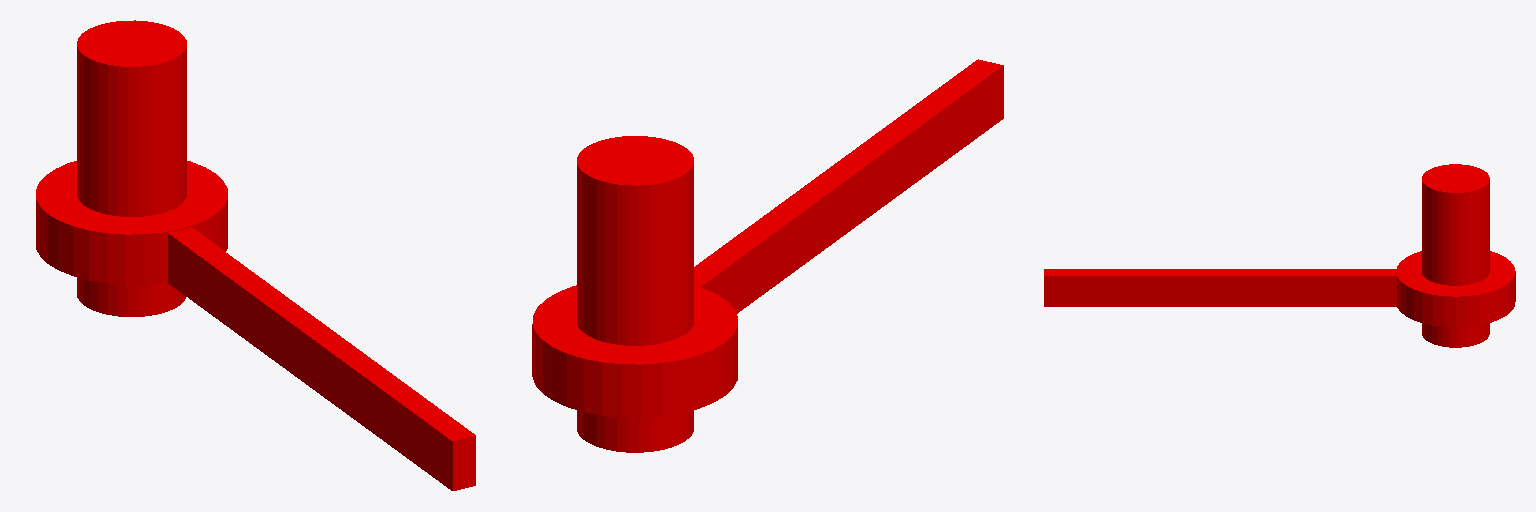
URDF robot description (barrier):
<?xml version="1.0" ?>
<robot name="barrier">
    
	<!-- Poste fijo (cilindro rojo) -->
	<link name="cylinder">
		<visual>
            <origin xyz="17 1.5 0.5" rpy="0 0 0"/>
			<geometry>
				<cylinder radius="0.2" length="1.0"/>
			</geometry>
	     	<material name="red">
                <color rgba="1 0 0 1"/>
            </material>
	   </visual>
	</link>

    <!-- Base giratoria de la barrera -->
	<link name="wrist_link">
		<visual>
            <origin xyz="17 1.5 0.3" rpy="0 0 0"/>
			<geometry>
				<cylinder radius="0.35" length="0.2"/>
			</geometry>
	     	<material name="red">
                <color rgba="1 0 0 1"/>
            </material>
	   </visual>
	</link>

    <!-- Brazo de la barrera móvil -->
    <link name="bar">
        <visual>
            <origin xyz="17 0.2 0.35" rpy="0 0 0"/>
            <geometry>
                <box size="0.1 2.22 0.2"/>  
            </geometry>
            <material name="red">
                <color rgba="1 0 0 1"/>
            </material>
        </visual>
    </link>

    <!-- Articulación fija en el extremo del brazo -->
    <joint name="wrist_joint" type="fixed">
    	<parent link="wrist_link"/>
    	<child link="bar"/>
    	<origin xyz="0 0 -0.055" rpy="0 0 0"/>
	</joint>

    <!-- Articulación de rotación en el extremo del brazo sobre el eje Z -->
    <joint name="rotation_joint" type="revolute">
        <parent link="cylinder"/>
        <child link="wrist_link"/>
        <axis xyz="0 0 1"/>  <!-- Rotación en el eje Z -->
        <limit lower="-1.57" upper="1.57"/>
    </joint>

</robot>

--- What the picture shows (computed from the rendered views, not written in the file) ---
3 views of the same robot in one strip: view 1: azimuth 30°, elevation 25°; view 2: azimuth 150°, elevation 25°; view 3: azimuth 270°, elevation 25° (orthographic).
Robot: barrier — 3 links, 2 joints (1 revolute, 1 fixed); root link cylinder; default pose: every joint at zero.
Visible links, largest first — view 1: cylinder, bar, wrist_link; view 2: cylinder, bar, wrist_link; view 3: bar, cylinder, wrist_link.
Link boxes in pixels (x1,y1,x2,y2): cylinder: (77, 20, 186, 316); bar: (167, 227, 475, 490); wrist_link: (36, 161, 227, 284); cylinder: (577, 136, 693, 452); bar: (694, 59, 1003, 313); wrist_link: (532, 285, 737, 417); bar: (1044, 269, 1396, 306); cylinder: (1422, 164, 1489, 347); wrist_link: (1396, 251, 1515, 327).
Size in the robot's own frame: 0.7 by 2.76 by 1 metres.
Geometry: primitives only (box / cylinder / sphere), no mesh files.